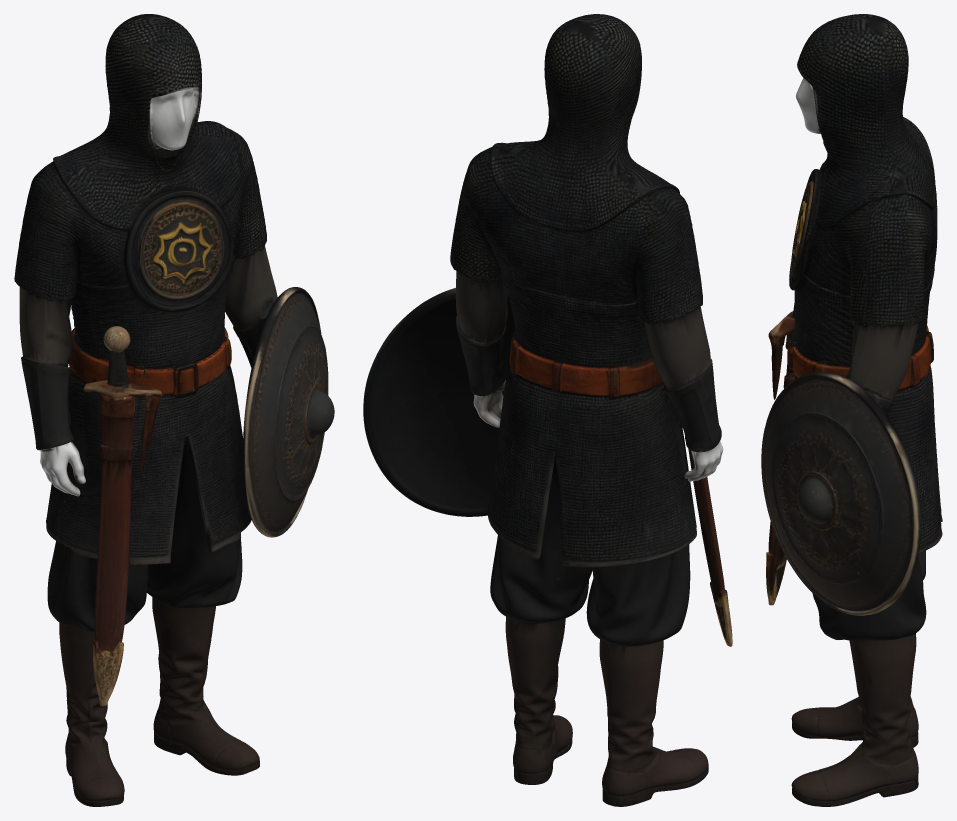
File: 001-rekonstrukciya-vooruzheniya-chechenskogo.glb
3 views of the same model, side by side, from view 1: azimuth 30°, elevation 25°; view 2: azimuth 150°, elevation 25°; view 3: azimuth 270°, elevation 25° (orthographic).
Visible parts, largest first — view 1: node_0; view 2: node_0; view 3: node_0.
Part boxes in pixels (<box>): node_0: <box>14,14,334,806</box>; node_0: <box>363,14,732,806</box>; node_0: <box>761,14,942,806</box>.
Size of the model in its own units: 0.502 by 1.13 by 0.2469.
Materials: 1 (1 with a texture image).
